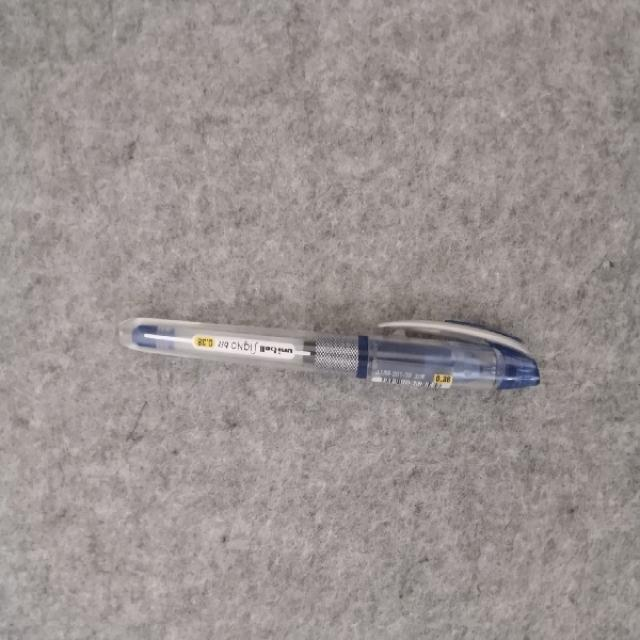pen: (119, 318, 539, 389)
